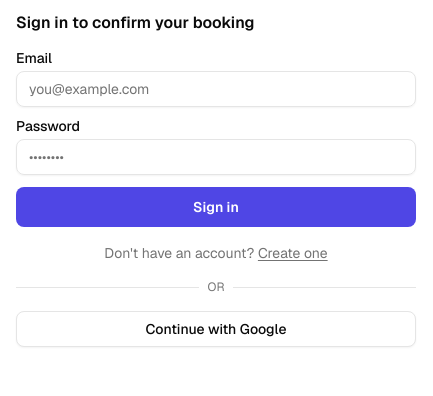
InlineAuthForm › shows error message on invalid credentials
The image size is (433, 396).
Type "bad@test.com" into the field labelled "Email" at (216, 89), box [16,71,416,107]
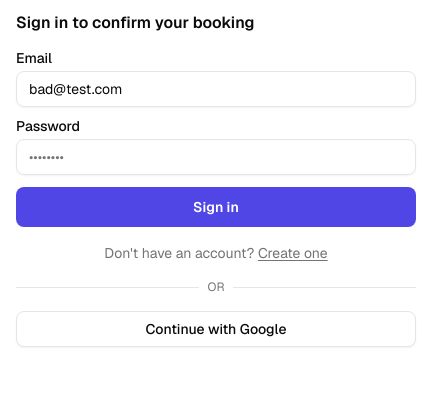
Type "wrongpassword" into the password field labelled "Password" at (216, 157), box [16,139,416,175]
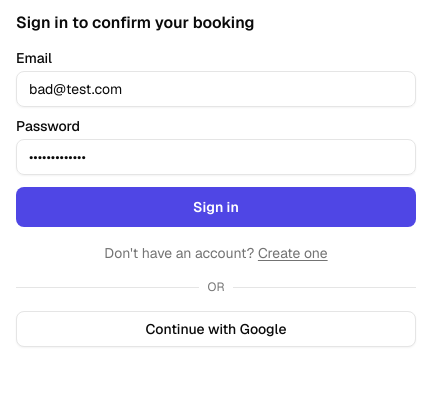
Click the button "Sign in" at (216, 207), box [16,187,416,227]
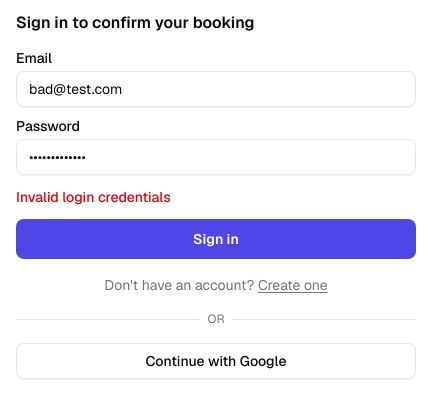
Check: the text "Invalid login credentials" is shown, box [16,188,171,206]
